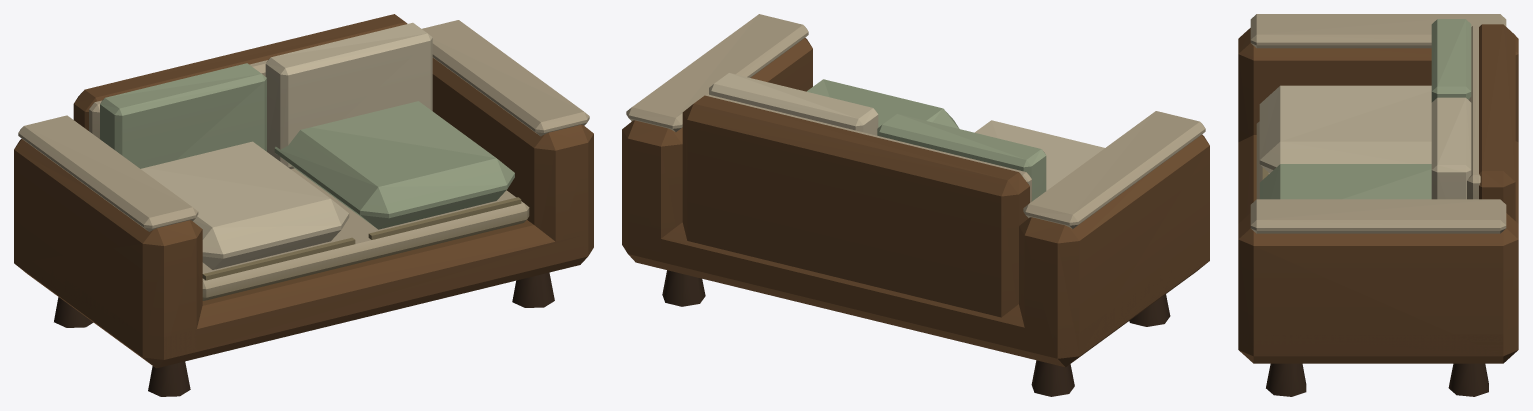
Rendered from loveseat.glb.
3 views of the same model, side by side, from view 1: azimuth 30°, elevation 25°; view 2: azimuth 150°, elevation 25°; view 3: azimuth 270°, elevation 25° (orthographic). The views are drawn at different scales.
Visible parts, largest first — view 1: loveseat; view 2: loveseat; view 3: loveseat.
Boxes of the visible parts, bbox=[...] form: loveseat: bbox=[14, 14, 593, 396]; loveseat: bbox=[622, 14, 1209, 396]; loveseat: bbox=[1238, 14, 1518, 396].
Size of the model in its own units: 1.66 by 0.76 by 0.92.
